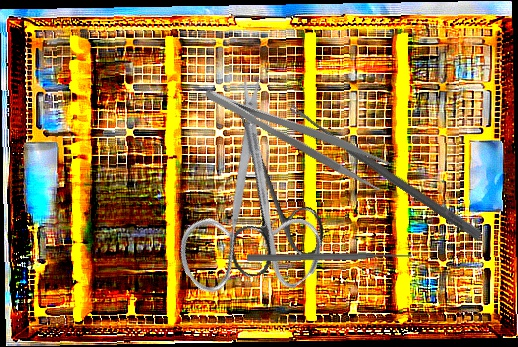Dressing Forceps: (200, 68, 396, 196)
Iris Scissors: (113, 70, 374, 335), (195, 95, 331, 281)
Pusher: (246, 250, 413, 264)
Surgical Spoon: (287, 103, 483, 240)
